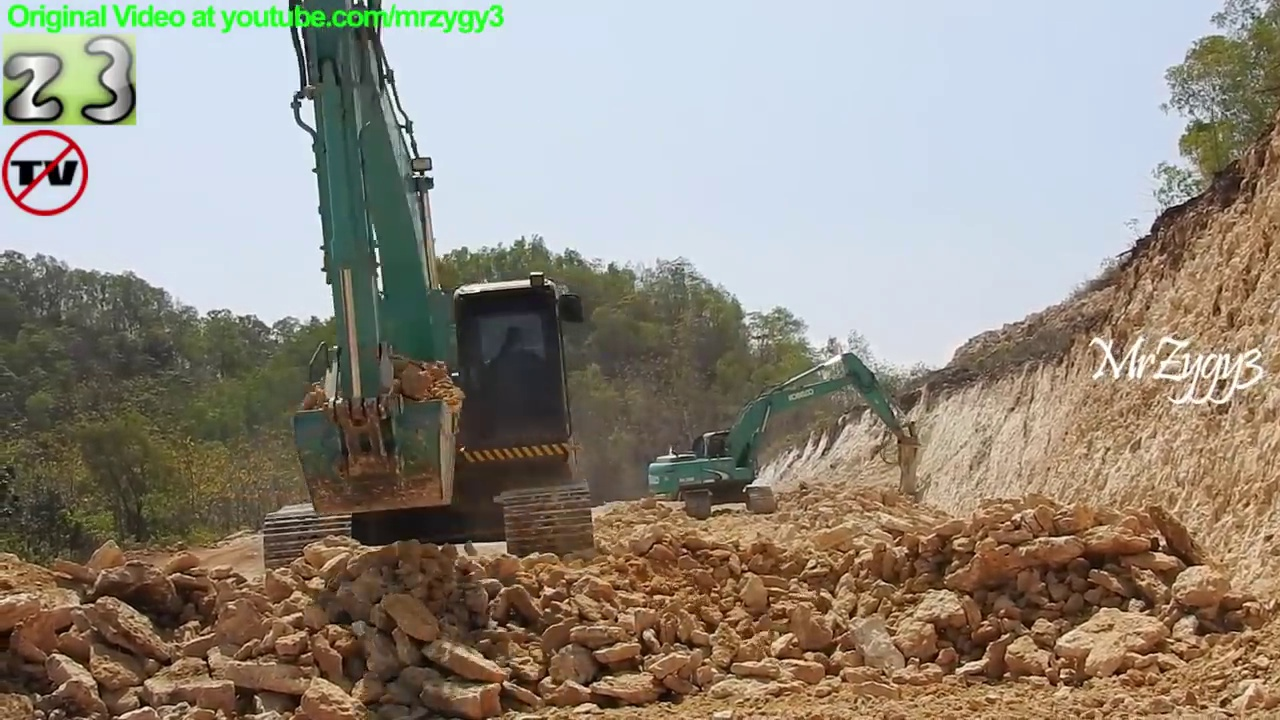excavator: (252, 1, 603, 596)
excavator breaker: (643, 347, 934, 524)
